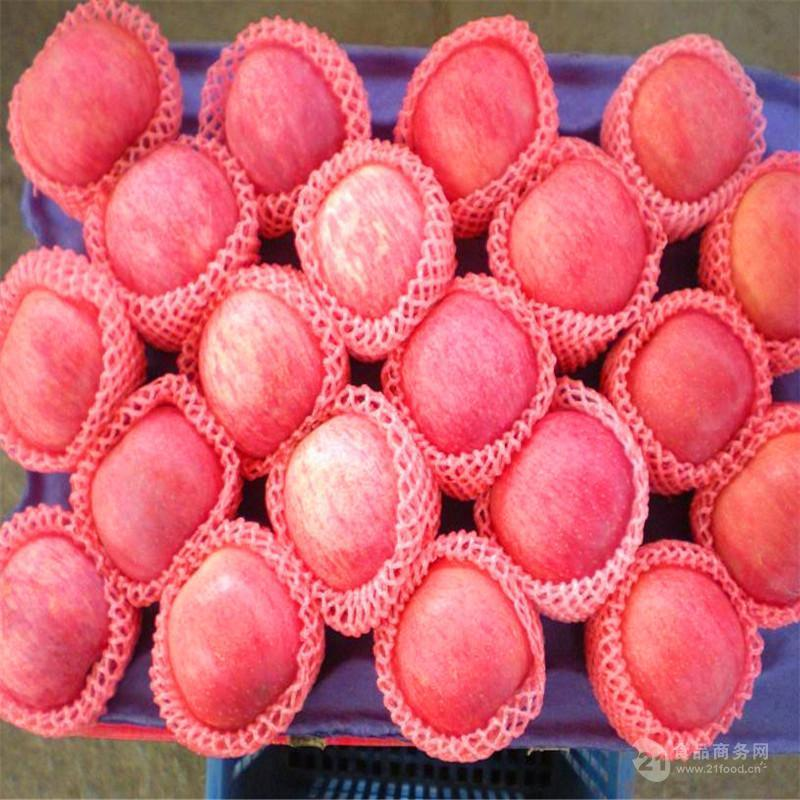apple: (166, 551, 302, 725), (392, 559, 528, 733), (25, 23, 163, 186), (167, 551, 300, 720), (497, 414, 630, 578), (309, 165, 447, 321), (399, 290, 537, 446), (509, 156, 647, 312), (203, 286, 324, 460), (279, 414, 400, 588), (93, 401, 214, 575), (623, 560, 740, 730), (216, 44, 343, 193), (626, 310, 753, 459), (627, 56, 754, 205), (108, 142, 235, 291), (408, 45, 535, 194), (3, 529, 110, 704), (3, 286, 103, 449), (714, 429, 800, 602), (726, 160, 800, 334)
